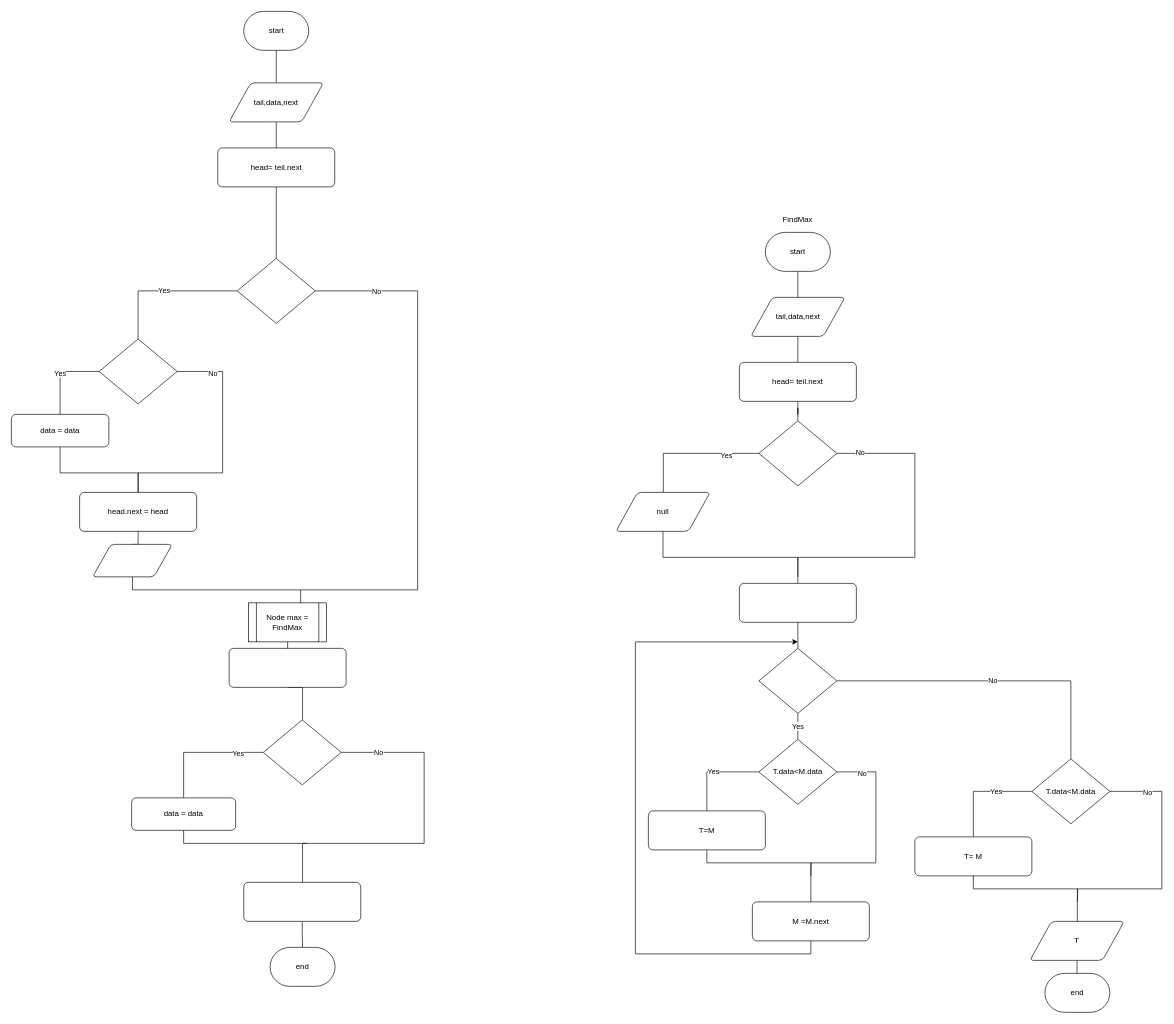
Image size: 1174x1024. Some labels were removed from this diagram. Here are the shapes that lost their labels. From the top down, the centre of each, then its label:
[276,290]: head==null
[137,371]: head = new Node
[797,453]: head == null
[132,560]: head.next
[797,602]: Node M = head; Node T =M;
[287,667]: Node MaxNext = Max.next;
[797,680]: M.next != head
[302,752]: Node Elem = new Node()
[302,901]: Max.next = Elem; Elem.next = MaxNext;
